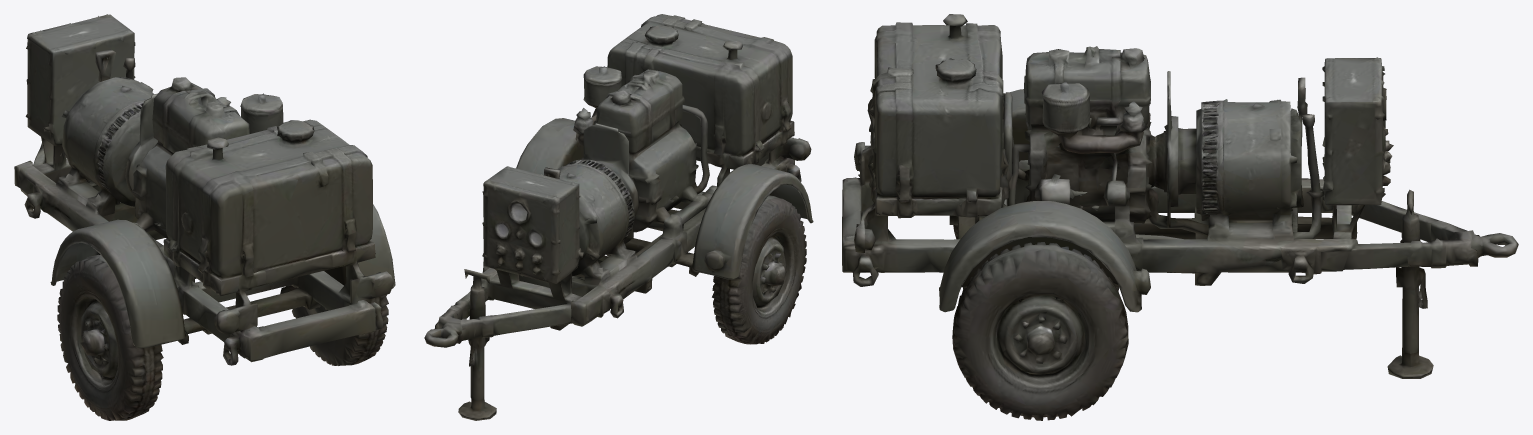
The model's file is prop_generator.glb.
3 views of the same model, side by side, from view 1: azimuth 30°, elevation 25°; view 2: azimuth 150°, elevation 25°; view 3: azimuth 270°, elevation 25° (orthographic). The views are drawn at different scales.
Visible parts, largest first — view 1: tripo_node_e896626b-bbc9-4e15-9313-6a5862cb4075; view 2: tripo_node_e896626b-bbc9-4e15-9313-6a5862cb4075; view 3: tripo_node_e896626b-bbc9-4e15-9313-6a5862cb4075.
Boxes of the visible parts, bbox=[...] form: tripo_node_e896626b-bbc9-4e15-9313-6a5862cb4075: bbox=[14, 14, 395, 420]; tripo_node_e896626b-bbc9-4e15-9313-6a5862cb4075: bbox=[424, 14, 813, 420]; tripo_node_e896626b-bbc9-4e15-9313-6a5862cb4075: bbox=[842, 14, 1518, 420].
Size of the model in its own units: 0.525 by 0.5127 by 1.
Materials: 1 (1 with a texture image).
